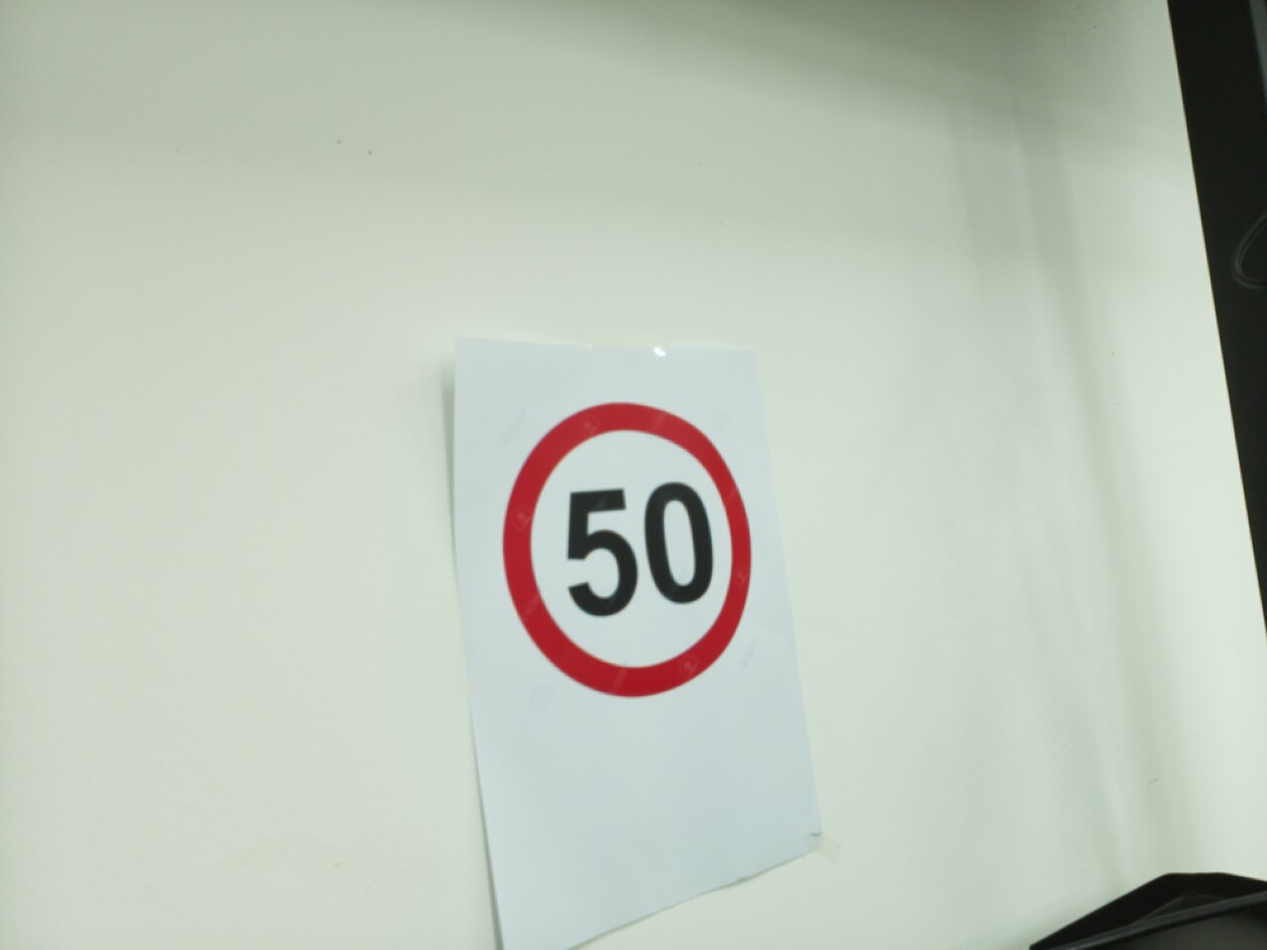speed_50: (494, 393, 760, 708)
